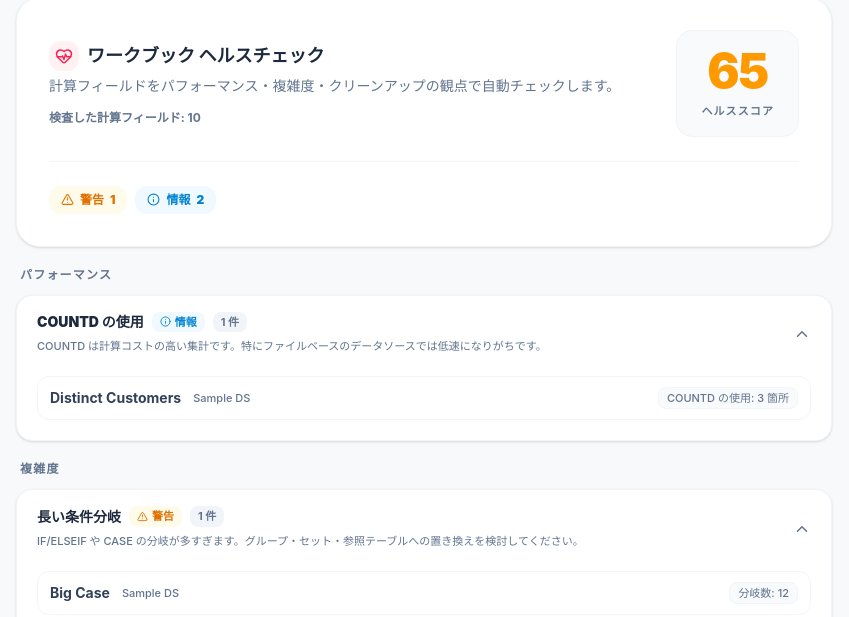
Test: HealthCheckView › ルールカードの折りたたみで指摘行が開閉すること
Expected: the text "Big Case" is shown, [50, 583, 110, 603]
Note: ルールタイトルのトグルボタンをクリックして折りたたむ
Click the button "長い条件分岐" at (79, 516), box [17, 490, 831, 567]
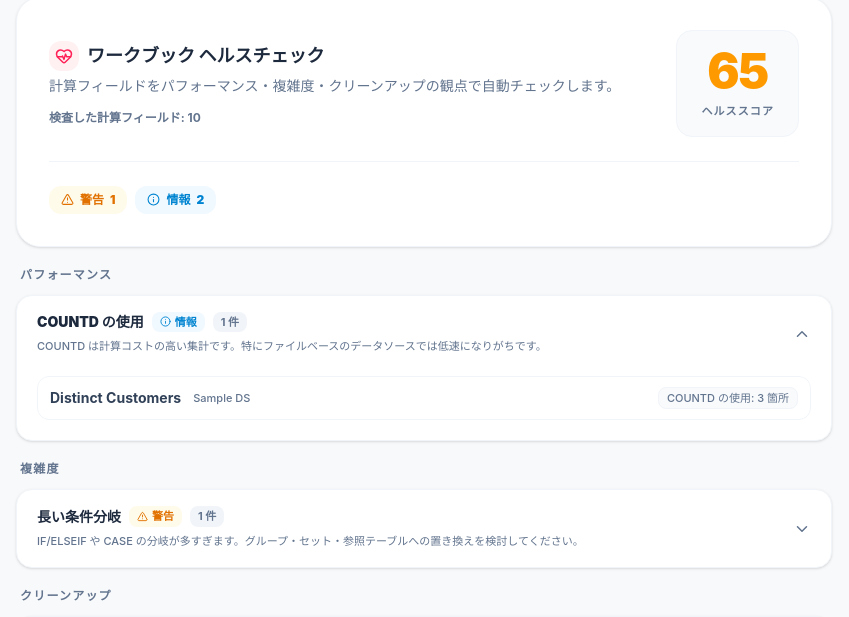
Expected: the button "Big Case" is gone
